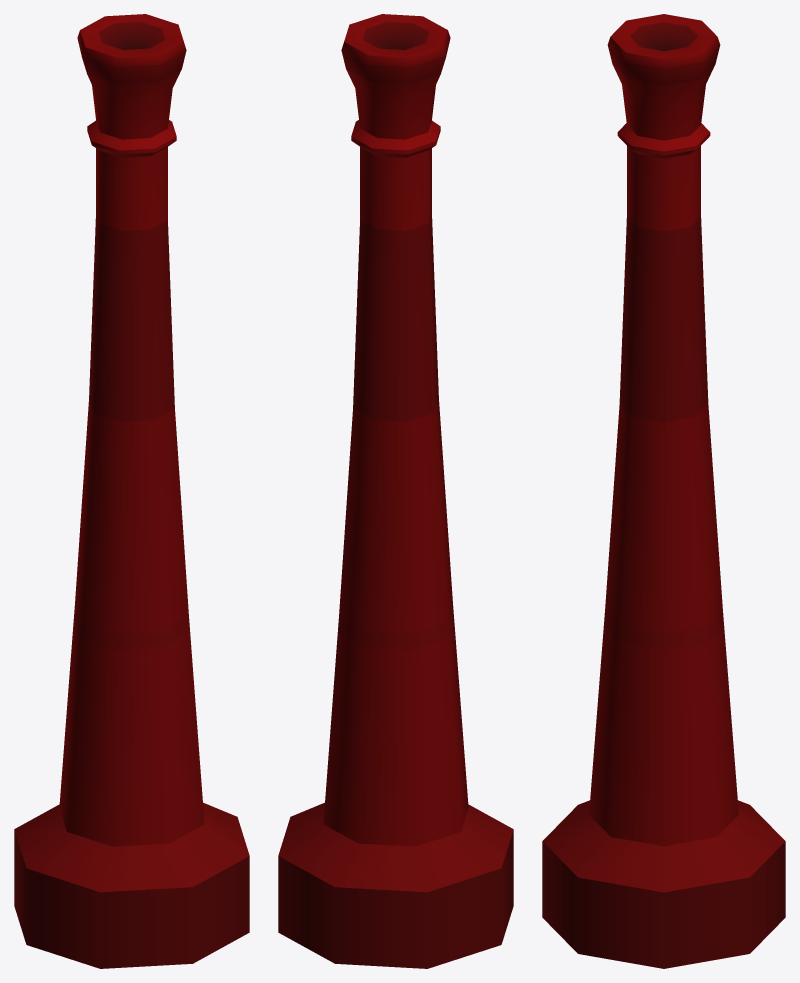
The picture shows the model from 3 angles, left to right: view 1: azimuth 30°, elevation 25°; view 2: azimuth 150°, elevation 25°; view 3: azimuth 270°, elevation 25°; orthographic projection.
Parts seen in each view (by area): view 1: base.019; view 2: base.019; view 3: base.019.
Part boxes in pixels (x1,y1,x2,y2): base.019: [14, 14, 249, 968]; base.019: [278, 14, 513, 968]; base.019: [542, 14, 785, 968].
Bounding box in the file's own units: 1109 × 1109 × 4432.
